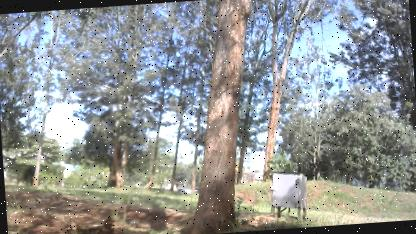tree: (162, 0, 271, 233)
